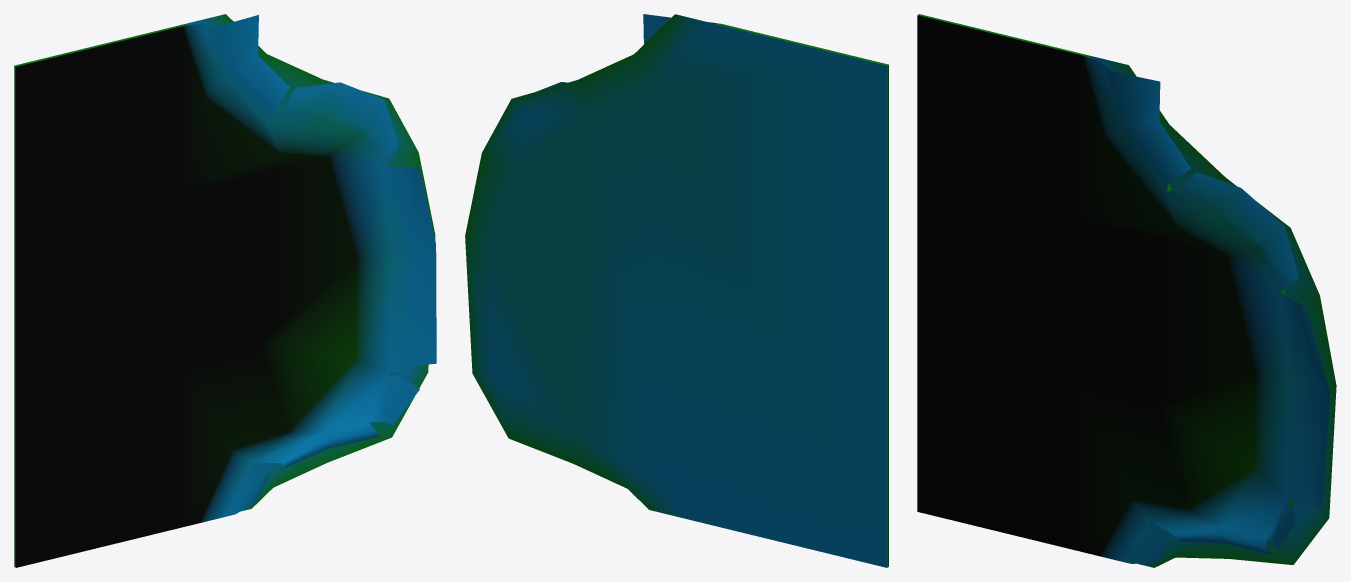
The model's file is DBK_Drywall_Side_A_Single.fbx.
3 views of the same model, side by side, from view 1: azimuth 30°, elevation 25°; view 2: azimuth 150°, elevation 25°; view 3: azimuth 330°, elevation 25° (orthographic).
Parts seen in each view (by area): view 1: DBK_Drywall_Side_A_Single; view 2: DBK_Drywall_Side_A_Single; view 3: DBK_Drywall_Side_A_Single.
Part boxes in pixels (box(x1,y1,x2,y2)): DBK_Drywall_Side_A_Single: box(14, 14, 436, 567); DBK_Drywall_Side_A_Single: box(465, 14, 888, 567); DBK_Drywall_Side_A_Single: box(917, 14, 1336, 567).
Size of what is drawn, in the model's own units: 264 by 300 by 14.61.
